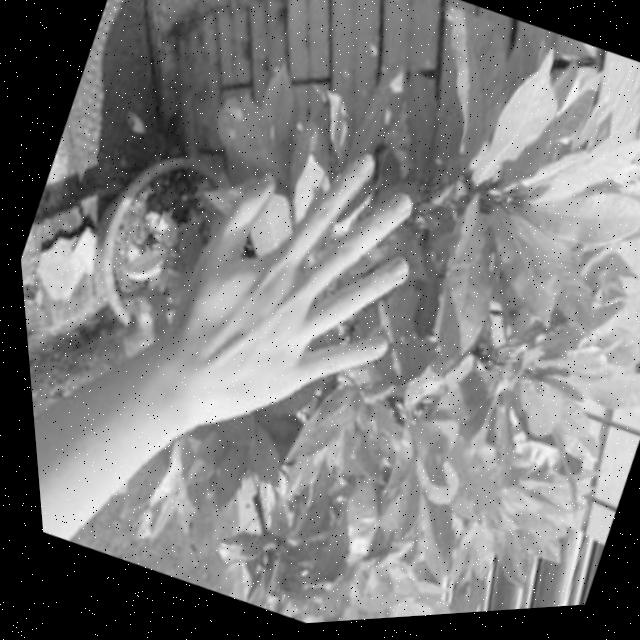hand: (124, 104, 458, 480)
